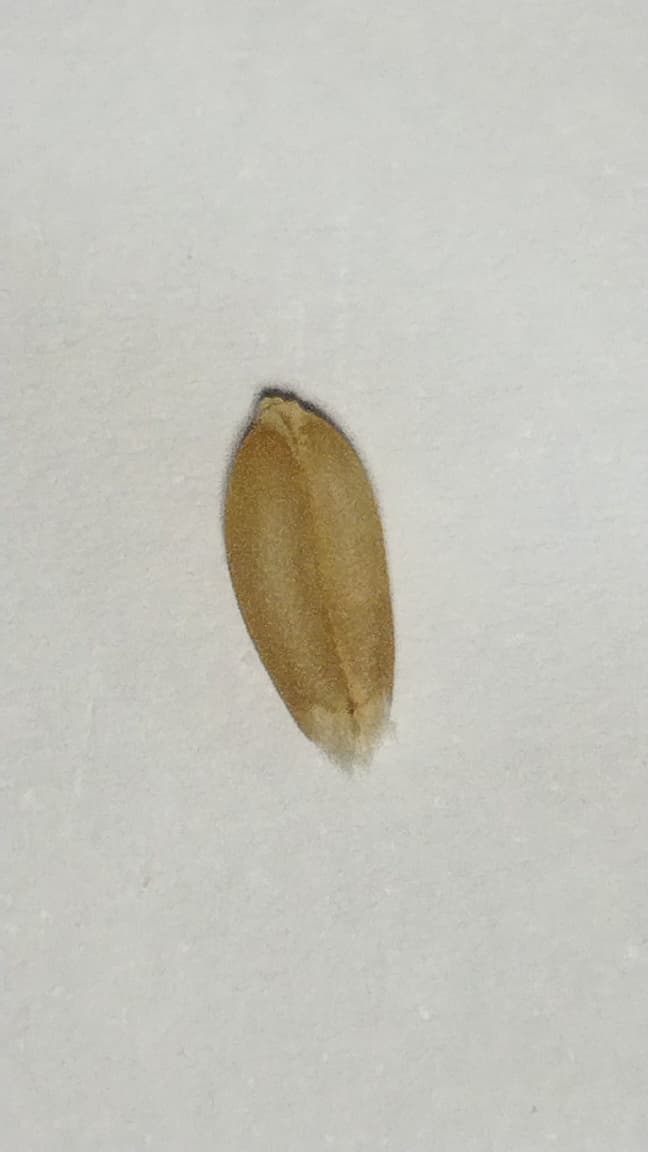healthy: (222, 388, 395, 758)
